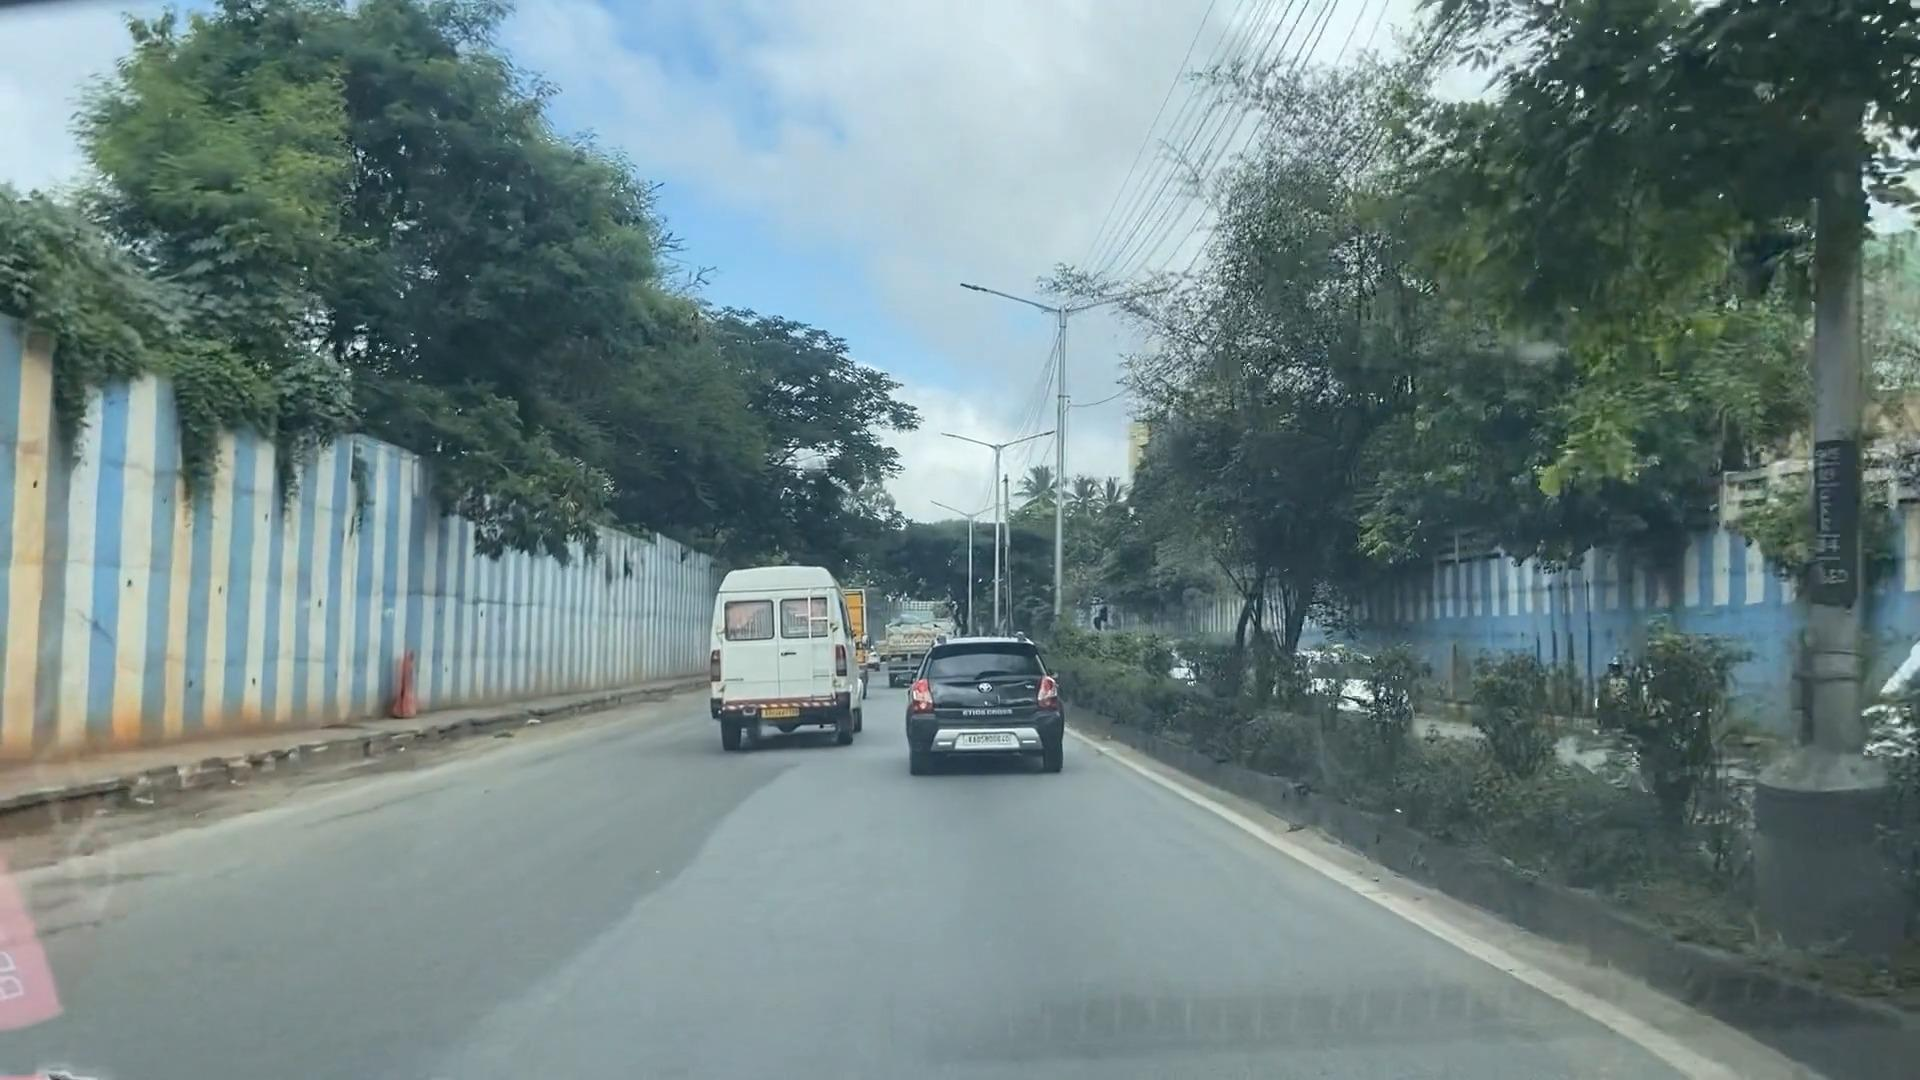HMV: (715, 580, 857, 748)
LMV: (905, 645, 1051, 769)
UnsurfacedRoad: (467, 819, 727, 1014)
